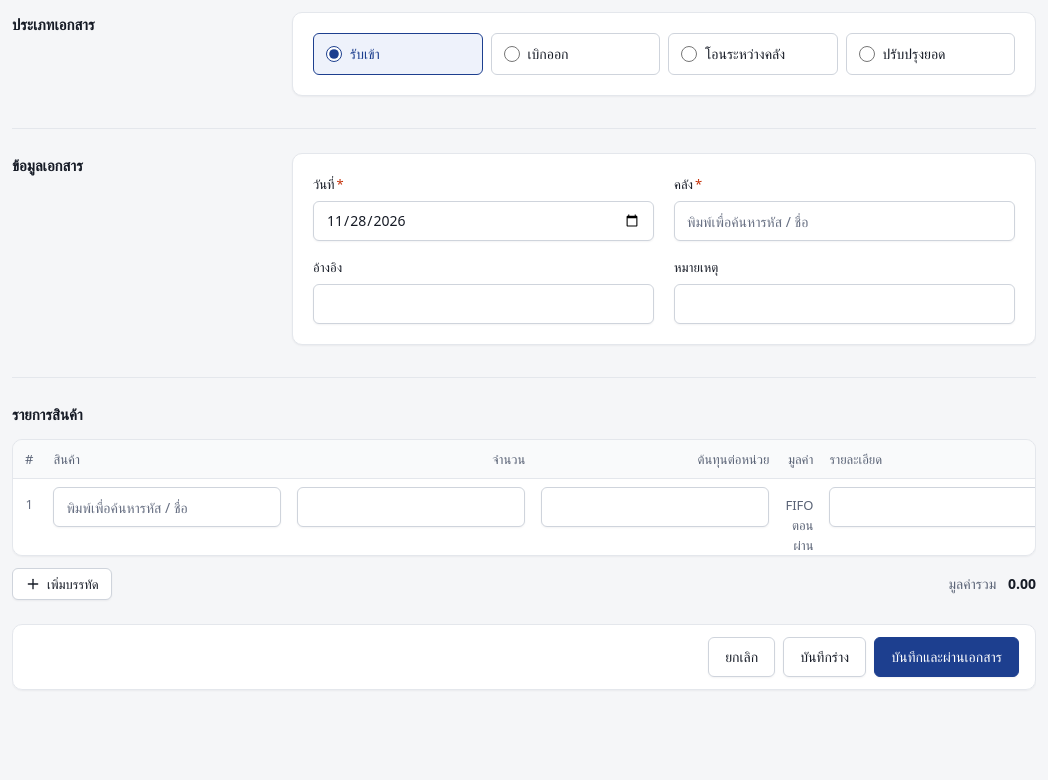
Scenario: StockDocForm › รับเข้า: ไม่ระบุต้นทุน = แจ้งที่ช่องและไม่ส่ง
In the field labelled "จำนวน บรรทัด 1": coordinates (411, 507) [298, 488, 524, 526], type "5"
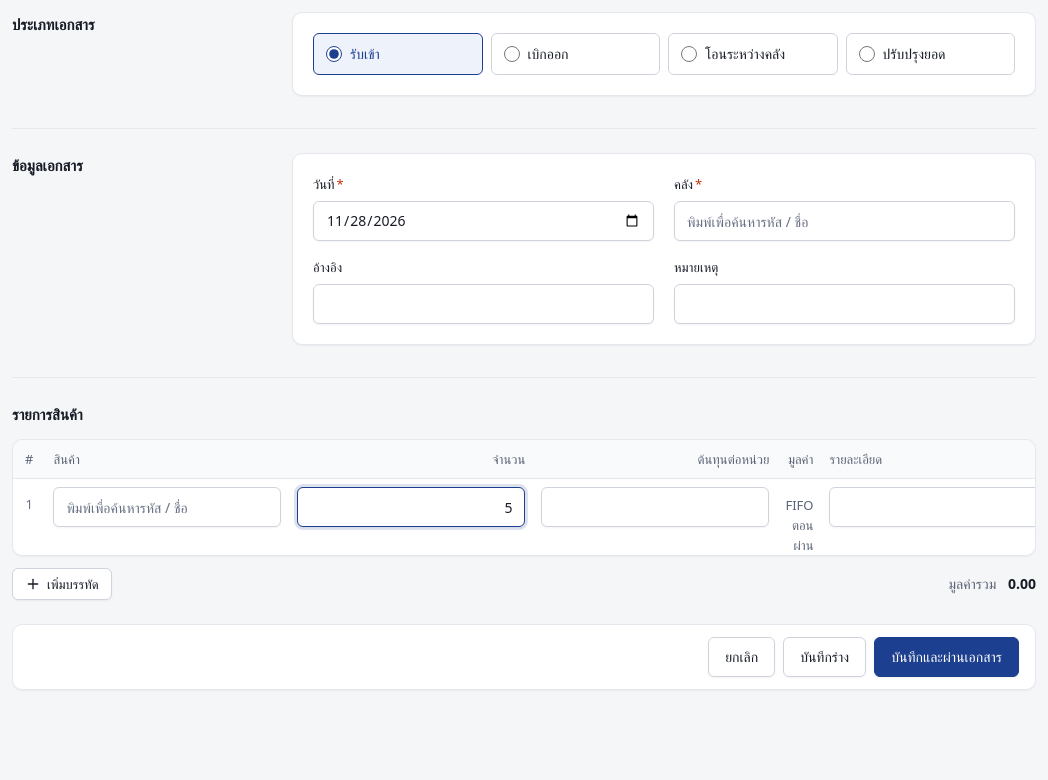
Click the button "บันทึกร่าง": coordinates (825, 657) [783, 637, 866, 677]
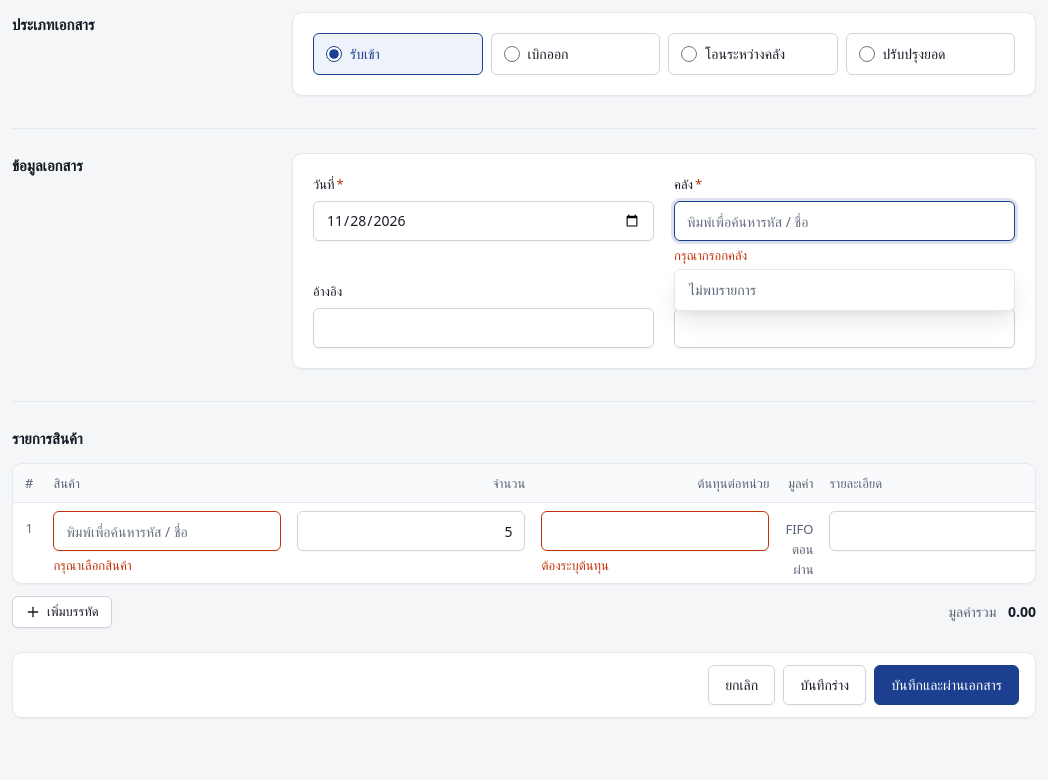
Check: the text "ต้องระบุต้นทุน" is shown, box [541, 556, 609, 574]
